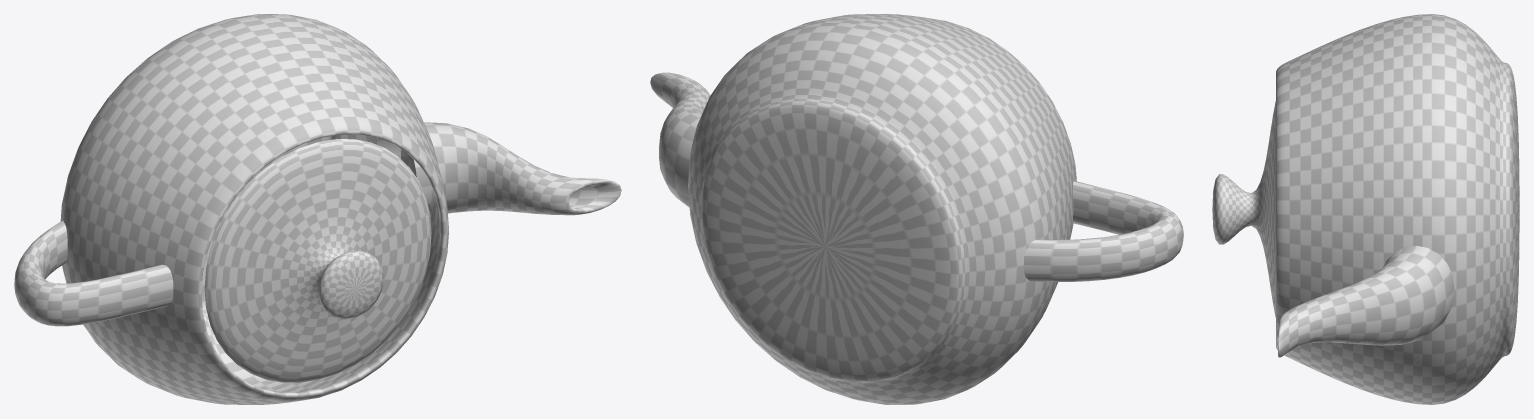
File: teapot2.obj
3 views of the same model, side by side, from view 1: azimuth 30°, elevation 25°; view 2: azimuth 150°, elevation 25°; view 3: azimuth 270°, elevation 25° (orthographic). The views are drawn at different scales.
Visible parts, largest first — view 1: Teapot2; view 2: Teapot2; view 3: Teapot2.
Part boxes in pixels (bbox=[...]): Teapot2: bbox=[14, 14, 621, 404]; Teapot2: bbox=[650, 14, 1183, 404]; Teapot2: bbox=[1212, 14, 1519, 404].
Size of the model in its own units: 32.17 by 20 by 15.75.
